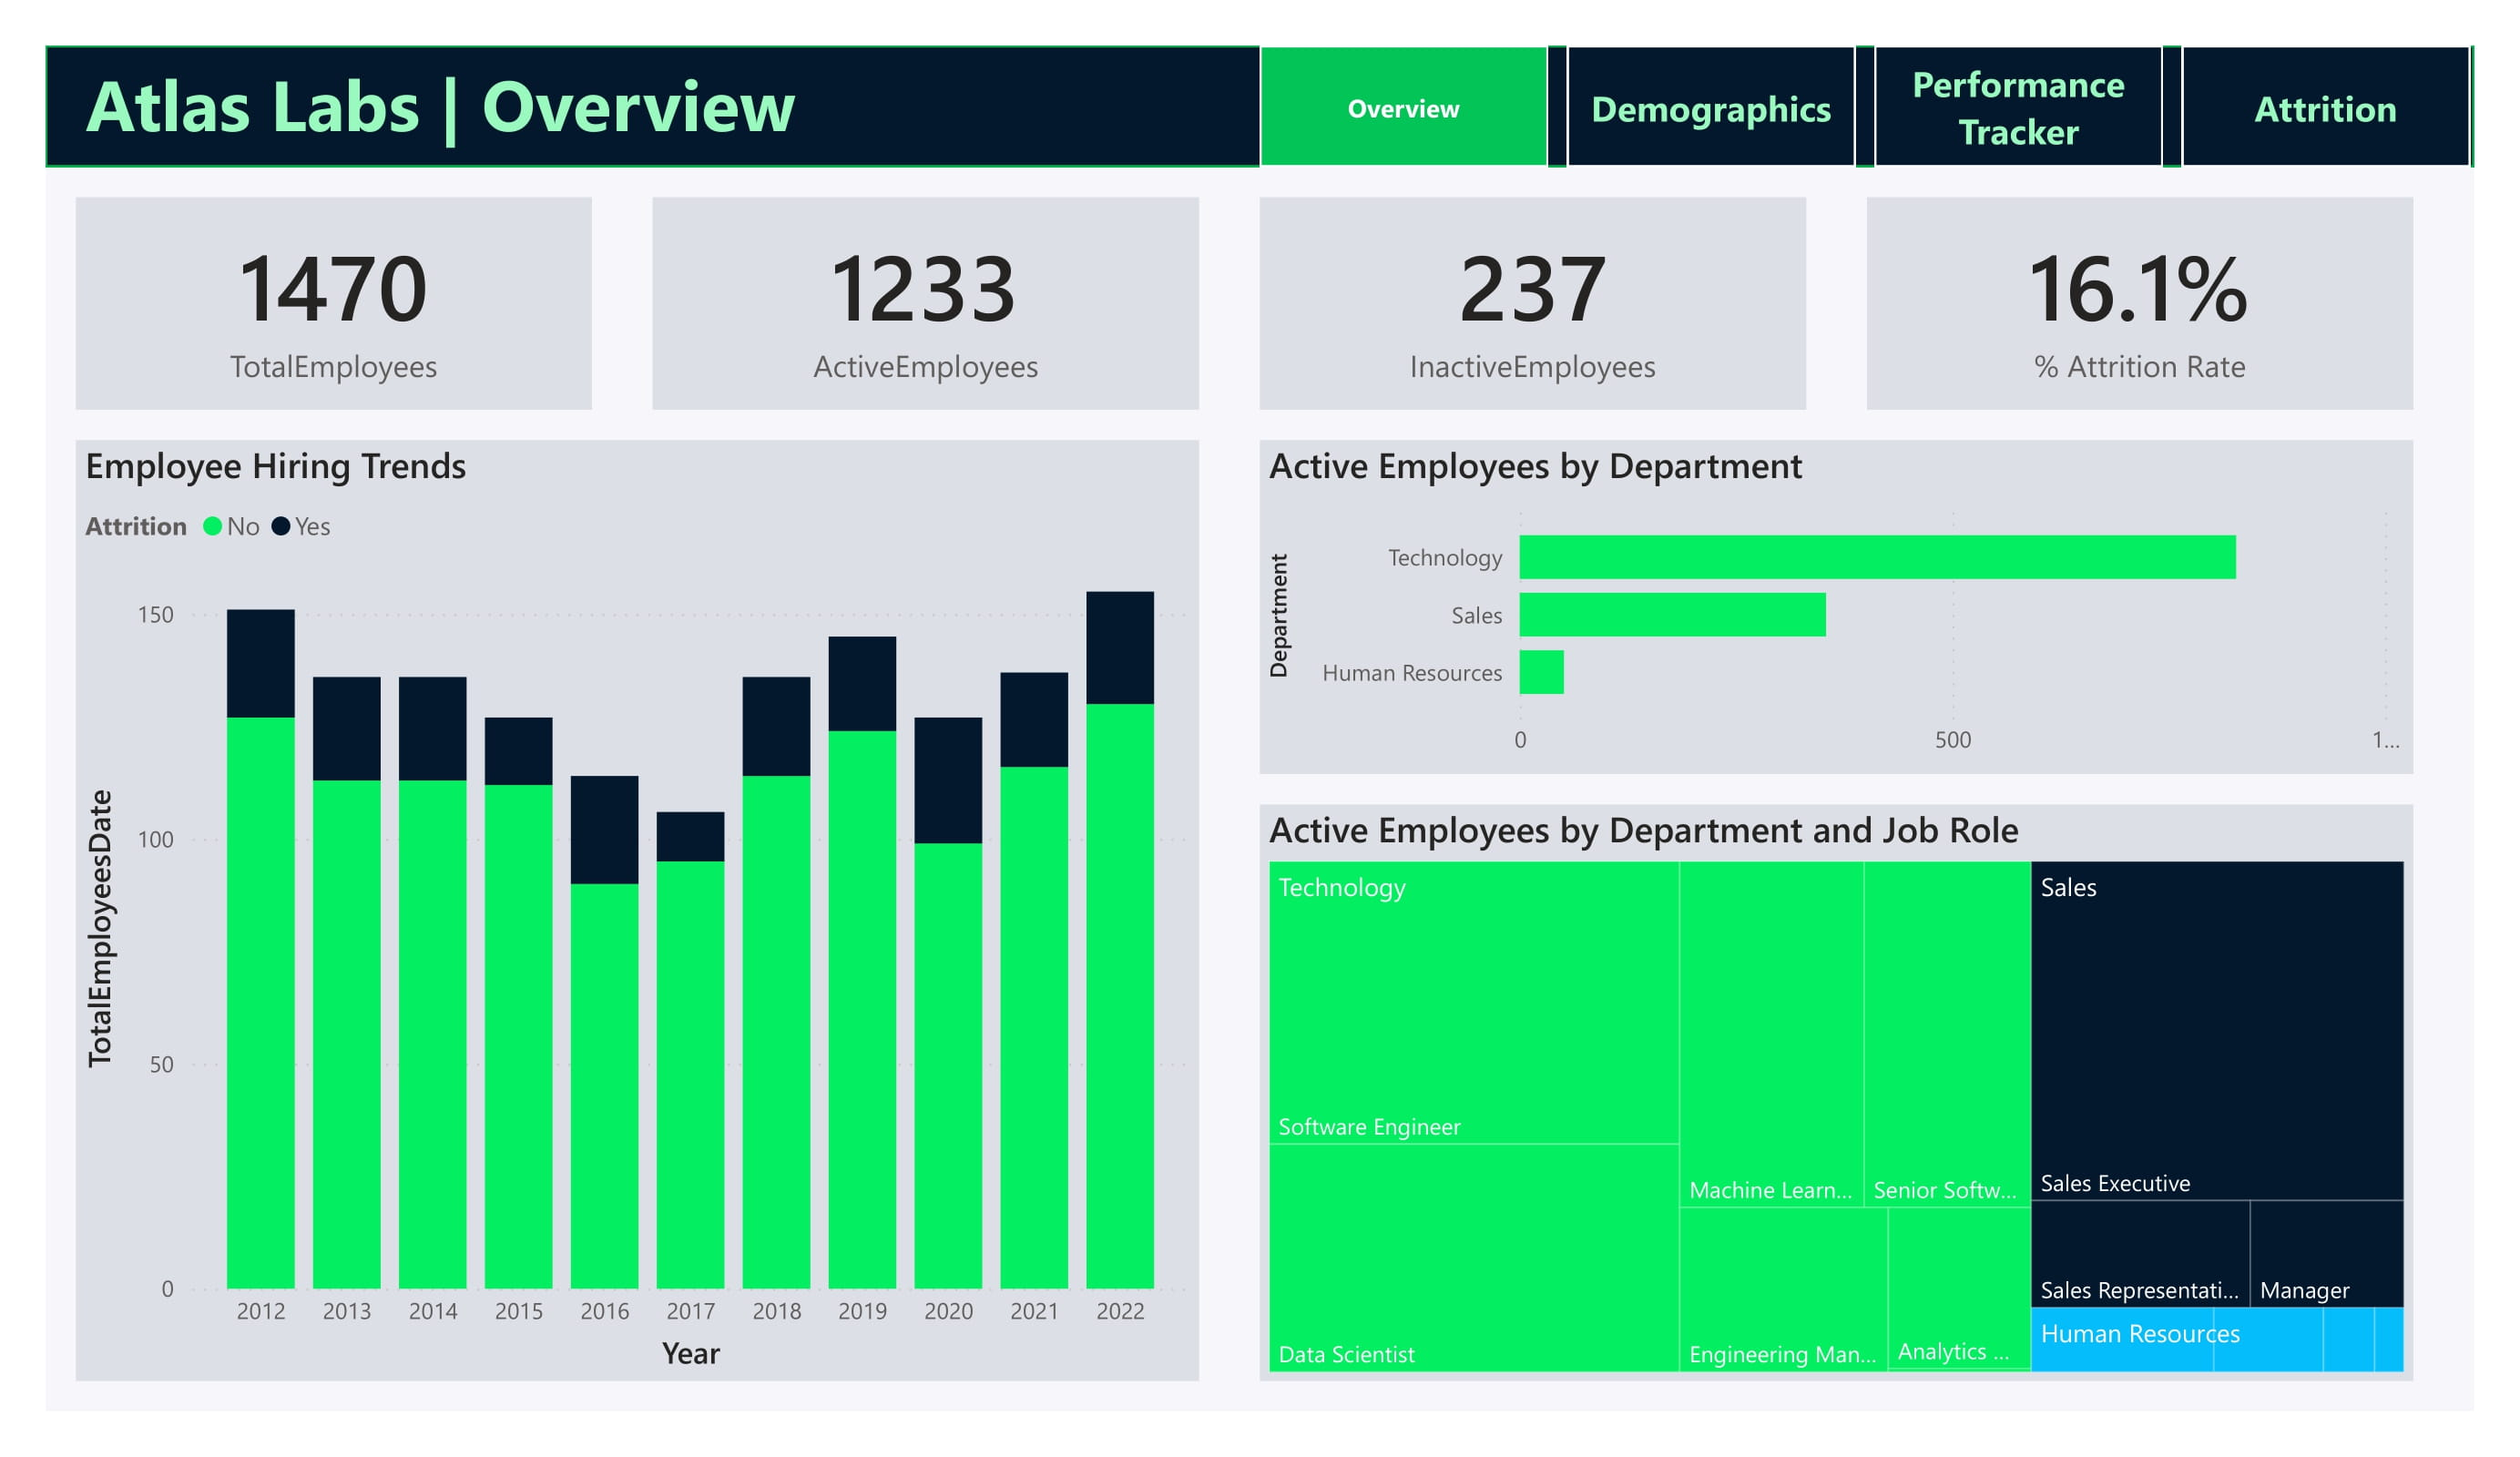

What the dashboard file says about the page in this screenshot:
{"tool":"powerbi","page":{"name":"Overview","canvas":[1280,720],"ordinal":0},"visuals":[{"type":"card","fields":{"Values":["_Measures.TotalEmployees"]},"box":[16,80,272,112],"z":0},{"type":"card","fields":{"Values":["_Measures.ActiveEmployees"]},"box":[320,80,288,112],"z":1000},{"type":"card","fields":{"Values":["_Measures.InactiveEmployees"]},"box":[640,80,288,112],"z":2000},{"type":"card","fields":{"Values":["_Measures.% Attrition Rate"]},"box":[960,80,288,112],"z":3000},{"type":"columnChart","title":"Employee Hiring Trends","fields":{"Category":["DimDate.Date.Variation.Date Hierarchy.Year","DimDate.Date.Variation.Date Hierarchy.Quarter","DimDate.Date.Variation.Date Hierarchy.Month","DimDate.Date.Variation.Date Hierarchy.Day"],"Y":["_Measures.TotalEmployeesDate"],"Series":["DimEmployee.Attrition"]},"box":[16,208,592,496],"z":4000},{"type":"clusteredBarChart","title":"Active Employees by Department","fields":{"Category":["DimEmployee.Department"],"Y":["_Measures.ActiveEmployees"]},"box":[640,208,608,176],"z":5000},{"type":"treemap","title":"Active Employees by Department and Job Role","fields":{"Values":["_Measures.ActiveEmployees"],"Group":["DimEmployee.Department"],"Details":["DimEmployee.JobRole"]},"box":[640,400,608,304],"z":6000},{"type":"shape","box":[0,0,1280,64],"z":7000},{"type":"textbox","box":[16,0,448,64],"z":8000},{"type":"pageNavigator","box":[640,0,640,64],"z":9000}]}

Visuals, with their boxes on the page's 1280x720 design canvas (x1, y1, x2, y2). These are canvas units, not pixel positions in the 2520x1457 screenshot, which may show the page scaled, cropped or inside an application window:
card - _Measures.TotalEmployees: locate(16, 80, 288, 192)
card - _Measures.ActiveEmployees: locate(320, 80, 608, 192)
card - _Measures.InactiveEmployees: locate(640, 80, 928, 192)
card - _Measures.% Attrition Rate: locate(960, 80, 1248, 192)
"Employee Hiring Trends" columnChart: locate(16, 208, 608, 704)
"Active Employees by Department" clusteredBarChart: locate(640, 208, 1248, 384)
"Active Employees by Department and Job Role" treemap: locate(640, 400, 1248, 704)
shape: locate(0, 0, 1280, 64)
textbox: locate(16, 0, 464, 64)
pageNavigator: locate(640, 0, 1280, 64)
